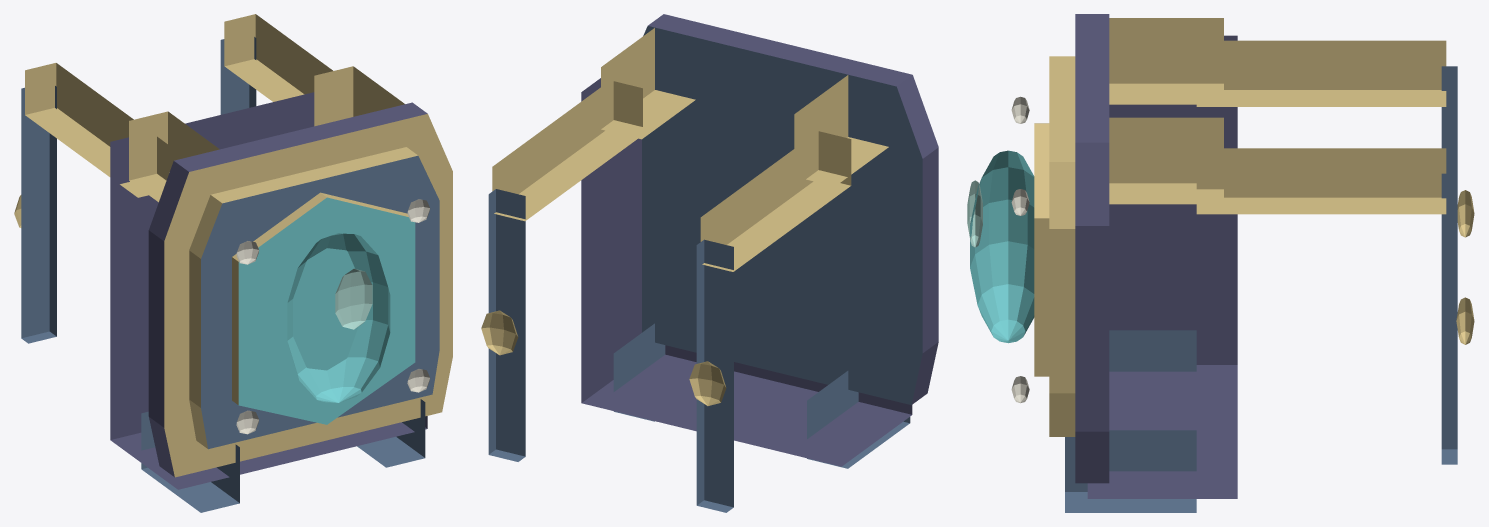
File: starwell_lantern.glb
3 views of the same model, side by side, from view 1: azimuth 30°, elevation 25°; view 2: azimuth 150°, elevation 25°; view 3: azimuth 270°, elevation 25° (orthographic). The views are drawn at different scales.
Visible parts, largest first — view 1: body; view 2: body; view 3: body.
Part boxes in pixels (x1,y1,x2,y2): body: (14, 14, 452, 512); body: (481, 14, 938, 512); body: (967, 14, 1474, 512).
Bounding box in the file's own units: 8.1 × 9.1 × 11.17.
